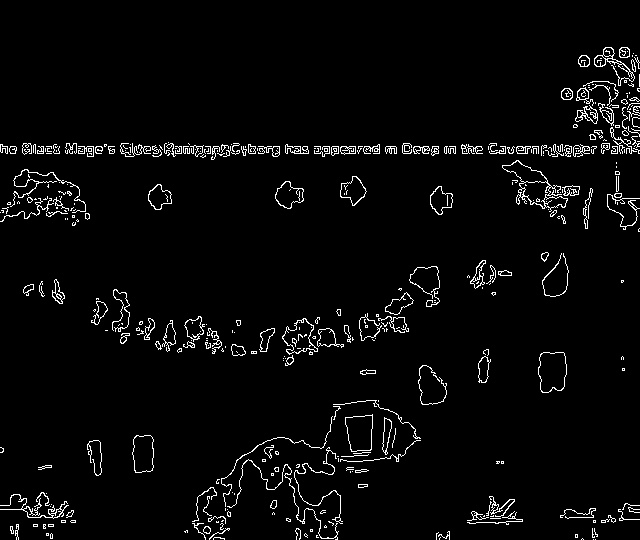left: (263, 173, 309, 218), (420, 181, 459, 223), (140, 179, 177, 217)
right: (334, 170, 373, 210)
